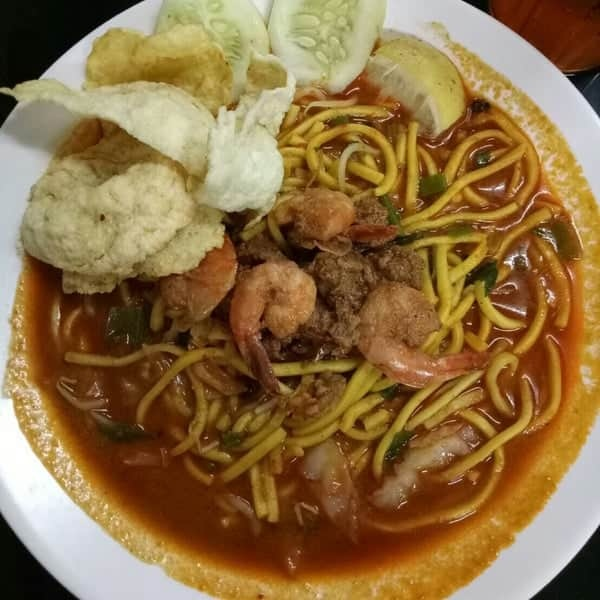mie_aceh: (65, 111, 581, 563)
